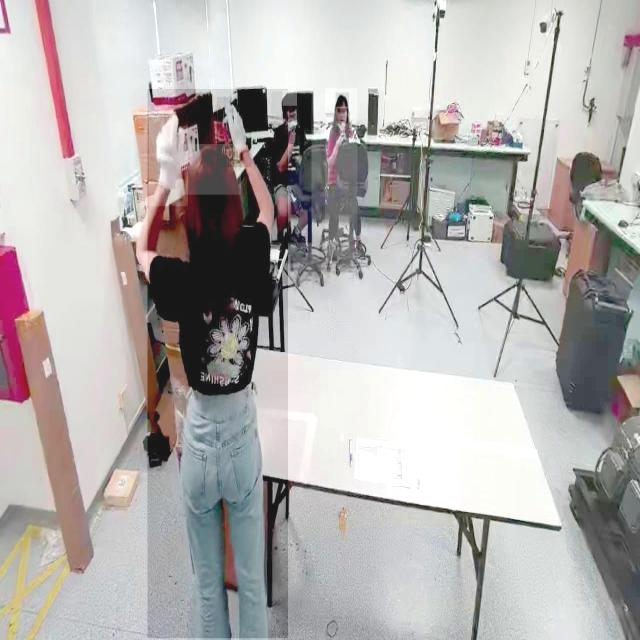face_nomask: (337, 108, 348, 125)
hand_glove: (149, 110, 188, 206), (216, 97, 252, 167)
hand_noglove: (336, 130, 346, 148), (289, 125, 297, 145)
head_nohelmet: (184, 144, 241, 196), (282, 90, 297, 106), (335, 92, 349, 108)
person: (147, 89, 288, 639), (272, 92, 312, 244), (324, 88, 358, 260)
